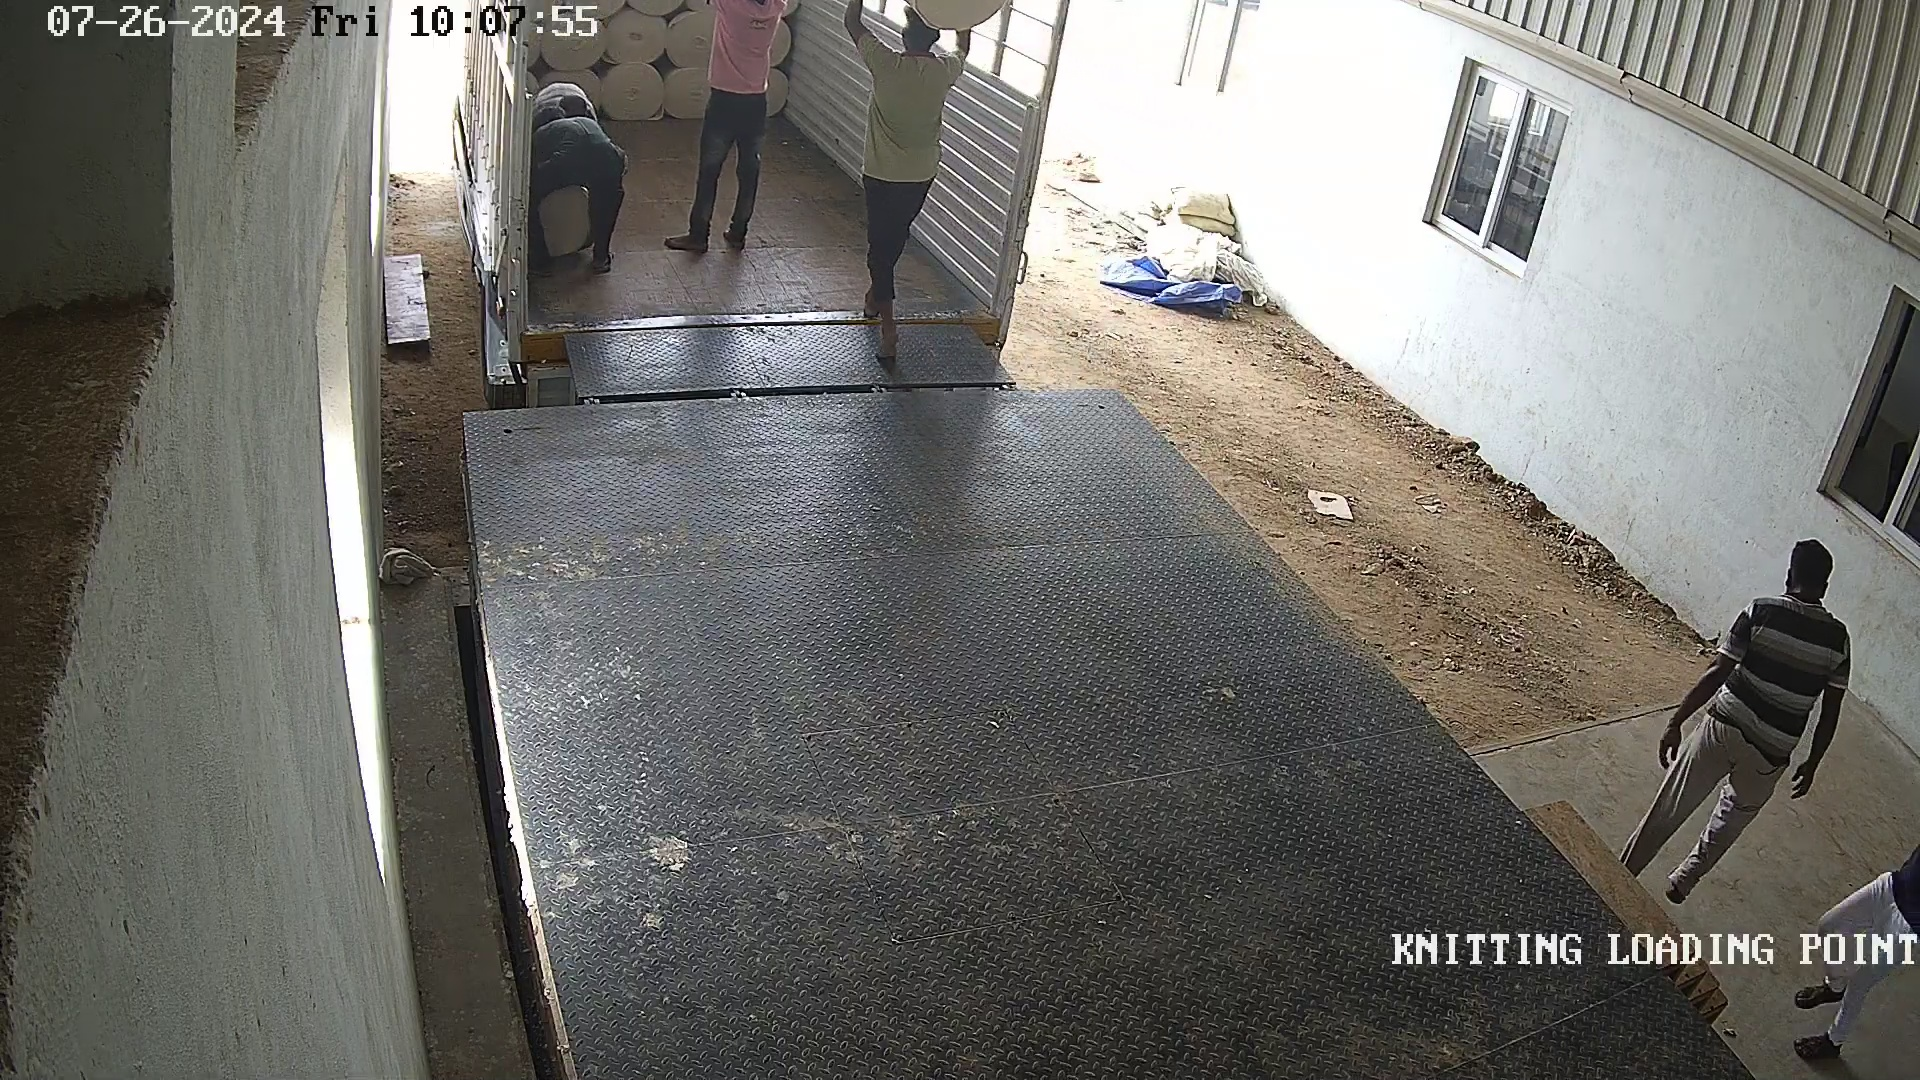bag: (891, 1, 1029, 45)
